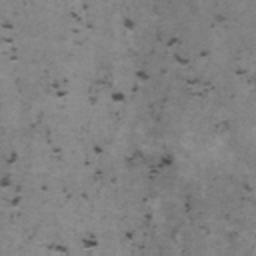Oxide scale of temperature system: (0, 3, 253, 253), (0, 22, 19, 61)
